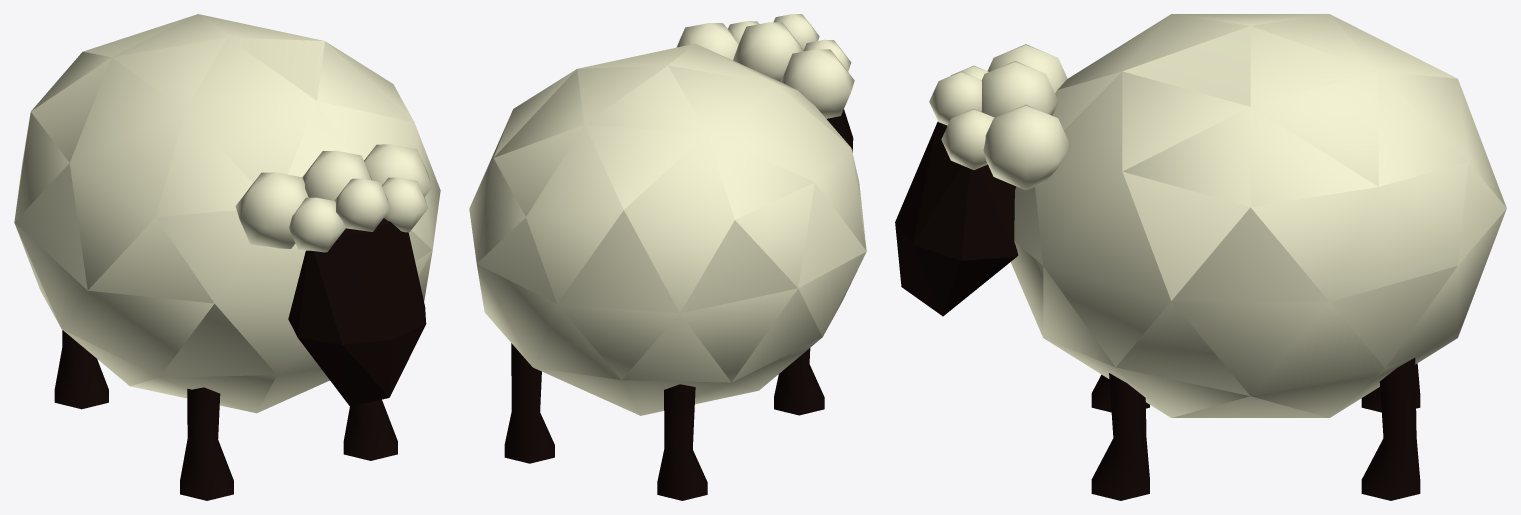
File: SHEEP.fbx
3 renders of one model, left to right at view 1: azimuth 30°, elevation 25°; view 2: azimuth 150°, elevation 25°; view 3: azimuth 270°, elevation 25°, orthographic. The views are drawn at different scales.
Visible parts, largest first — view 1: GeoSphere006; view 2: GeoSphere006; view 3: GeoSphere006.
Boxes of the visible parts, left/top/right/bottom form: GeoSphere006: left=14, top=14, right=440, bottom=500; GeoSphere006: left=469, top=14, right=866, bottom=500; GeoSphere006: left=895, top=14, right=1506, bottom=500.
Size of the model in its own units: 0.4661 by 0.4879 by 0.6488.
